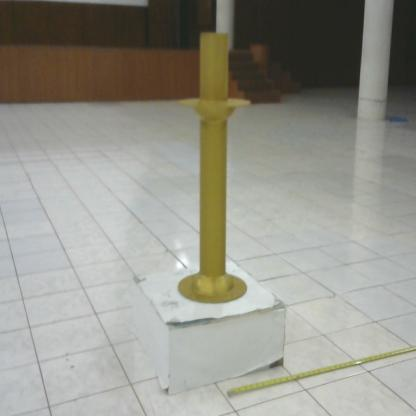pole: (173, 22, 261, 309)
